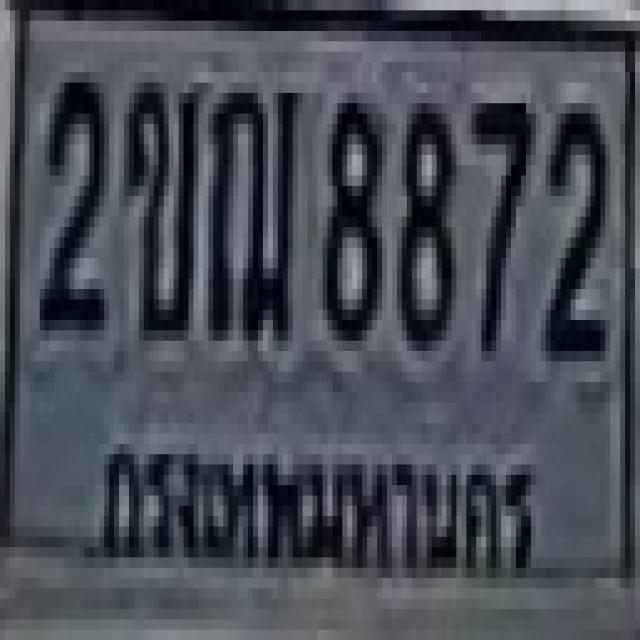2: (37, 67, 102, 325), (543, 93, 603, 351)
7: (466, 93, 531, 351)
8: (394, 93, 454, 341), (318, 83, 377, 330)
A02: (122, 72, 196, 330)
A12: (203, 77, 298, 336)
BKK: (96, 420, 545, 586)
